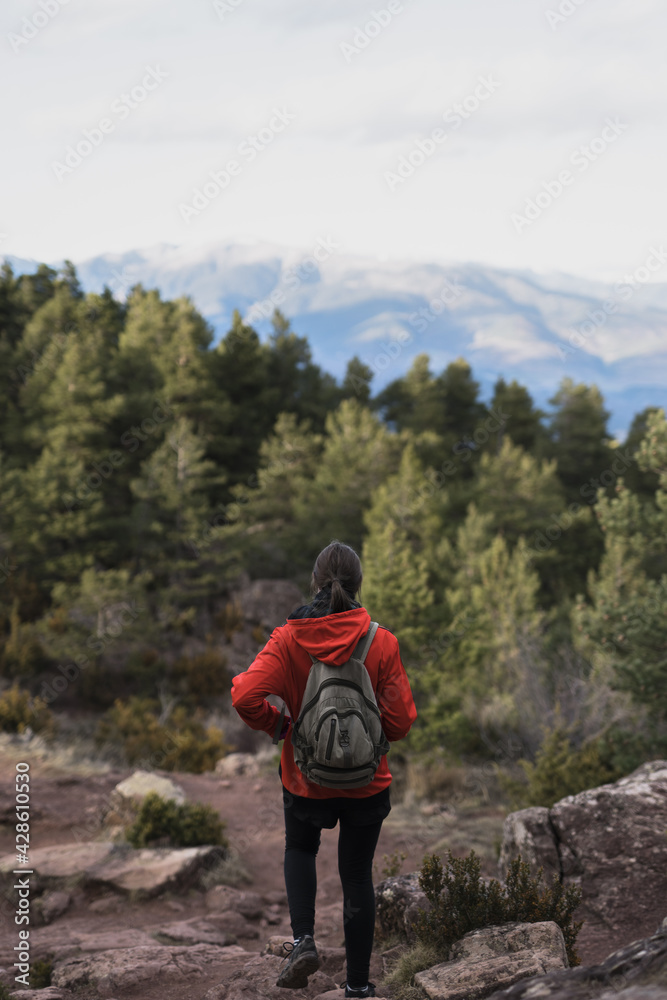person: (227, 540, 411, 994)
